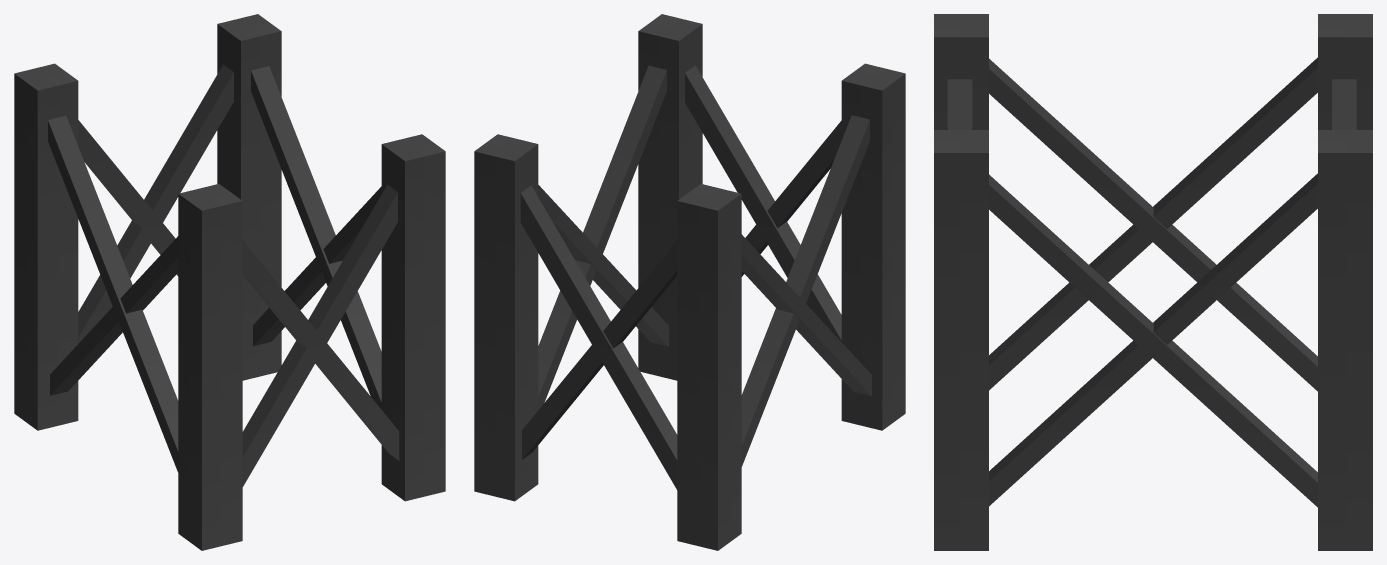
The model's file is steel_scaffold.obj.
The picture shows the model from 3 angles, left to right: view 1: azimuth 30°, elevation 25°; view 2: azimuth 150°, elevation 25°; view 3: azimuth 270°, elevation 25°; orthographic projection. The views are drawn at different scales.
Visible parts, largest first — view 1: pillar_2, pillar_3, pillar_1, pillar_4, beam_2, beam_4, beam_6, beam_8, beam_3, beam_1, beam_7, beam_5; view 2: pillar_1, pillar_4, pillar_2, pillar_3, beam_8, beam_1, beam_5, beam_4, beam_7, beam_2, beam_6, beam_3; view 3: pillar_3, pillar_4, beam_5, beam_6, beam_1, beam_2, pillar_1, pillar_2, beam_3, beam_7.
Boxes of the visible parts, box(x1,y1,x2,y2) form: pillar_2: box(178, 184, 242, 550); pillar_3: box(381, 134, 445, 501); pillar_1: box(14, 63, 78, 430); pillar_4: box(217, 14, 281, 380); beam_2: box(48, 115, 178, 472); beam_4: box(242, 184, 397, 486); beam_6: box(251, 66, 381, 409); beam_8: box(78, 64, 233, 343); beam_3: box(242, 240, 399, 460); beam_1: box(50, 236, 178, 395); beam_7: box(78, 120, 178, 276); beam_5: box(253, 186, 381, 346); pillar_1: box(677, 184, 741, 550); pillar_4: box(474, 134, 538, 501); pillar_2: box(841, 63, 905, 430); pillar_3: box(638, 14, 702, 380); beam_8: box(520, 185, 677, 489); beam_1: box(741, 115, 869, 466); beam_5: box(538, 65, 666, 409); beam_4: box(685, 65, 841, 341); beam_7: box(522, 241, 677, 459); beam_2: box(741, 234, 871, 396); beam_6: box(538, 185, 668, 346); beam_3: box(741, 120, 841, 276); pillar_3: box(934, 130, 988, 550); pillar_4: box(1318, 130, 1372, 550); beam_5: box(989, 174, 1317, 507); beam_6: box(989, 173, 1317, 506); beam_1: box(989, 58, 1317, 391); beam_2: box(989, 57, 1317, 390); pillar_1: box(1318, 14, 1372, 129); pillar_2: box(934, 14, 988, 129); beam_3: box(947, 79, 972, 129); beam_7: box(1332, 79, 1356, 129).
Bounding box in the file's own units: 0.75 × 1 × 1.
